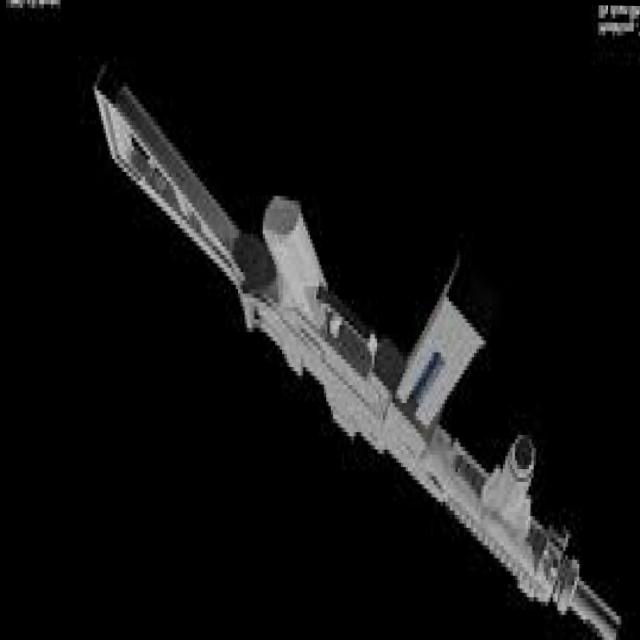Gun: (70, 68, 640, 640)
